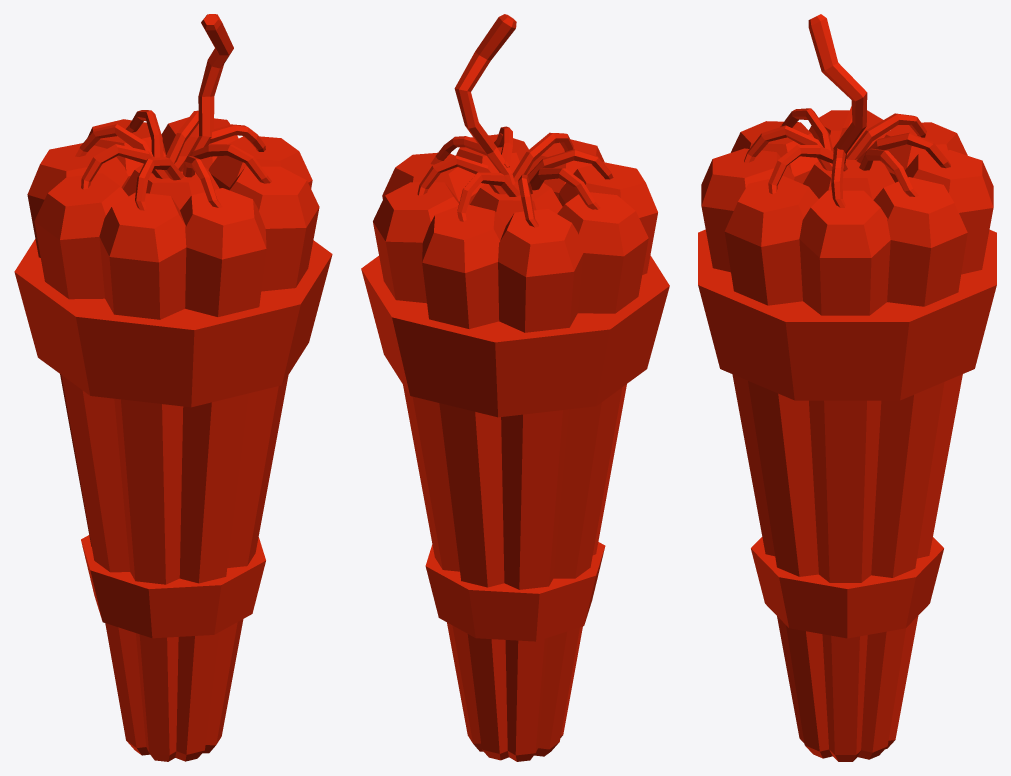
The model's file is Rock_Bomb.fbx.
3 renders of one model, left to right at view 1: azimuth 30°, elevation 25°; view 2: azimuth 150°, elevation 25°; view 3: azimuth 270°, elevation 25°, orthographic. The views are drawn at different scales.
Parts seen in each view (by area): view 1: Cylinder; view 2: Cylinder; view 3: Cylinder.
Boxes of the visible parts, <box> form: Cylinder: <box>14,14,332,761</box>; Cylinder: <box>361,14,669,761</box>; Cylinder: <box>698,14,996,761</box>.
Bounding box in the file's own units: 215 × 591 × 215.
